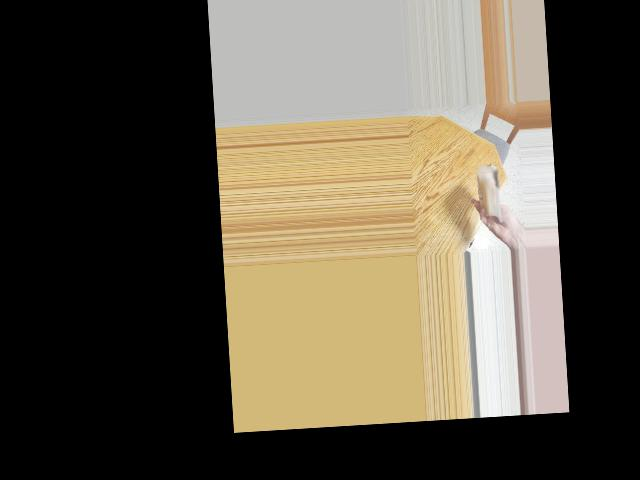cheese: (474, 167, 512, 220)
